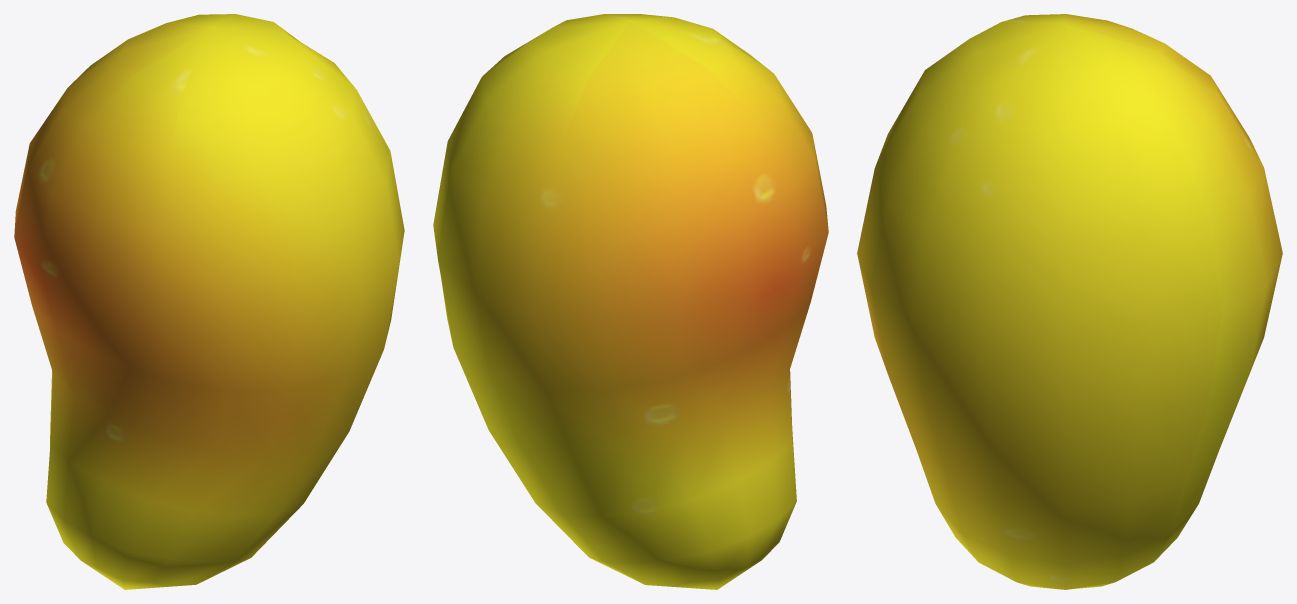
The model's file is mango.FBX.
3 renders of one model, left to right at view 1: azimuth 30°, elevation 25°; view 2: azimuth 150°, elevation 25°; view 3: azimuth 270°, elevation 25°, orthographic. The views are drawn at different scales.
Parts seen in each view (by area): view 1: Mango002; view 2: Mango002; view 3: Mango002.
Boxes of the visible parts, bbox=[...] form: Mango002: bbox=[14, 14, 404, 589]; Mango002: bbox=[433, 14, 828, 589]; Mango002: bbox=[857, 14, 1282, 589].
Size of the model in its own units: 7.68 by 11.7 by 7.76.
